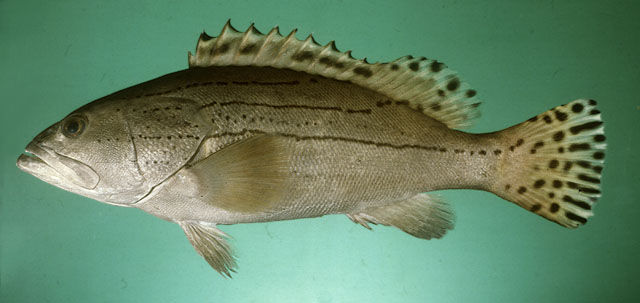fish: (16, 18, 608, 280)
